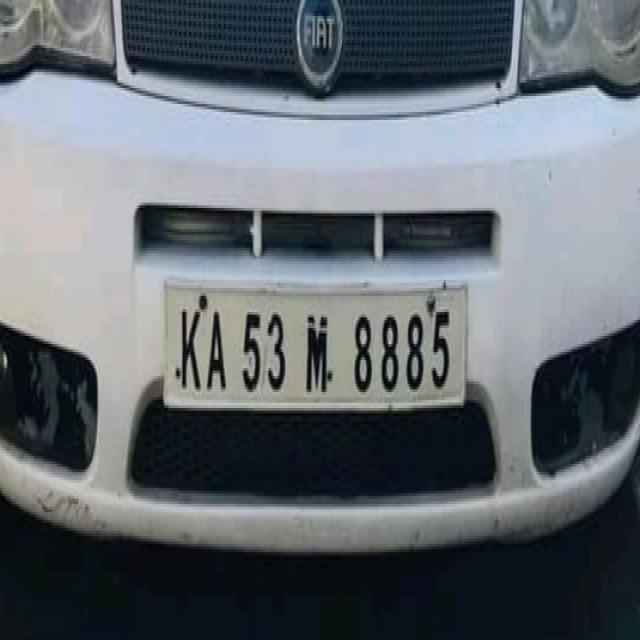3: (264, 306, 288, 401)
5: (239, 302, 263, 399), (429, 299, 452, 398)
8: (378, 306, 403, 407), (404, 308, 428, 407), (350, 310, 374, 400)
A: (204, 301, 230, 398)
K: (180, 302, 202, 400)
M: (304, 306, 332, 403)
